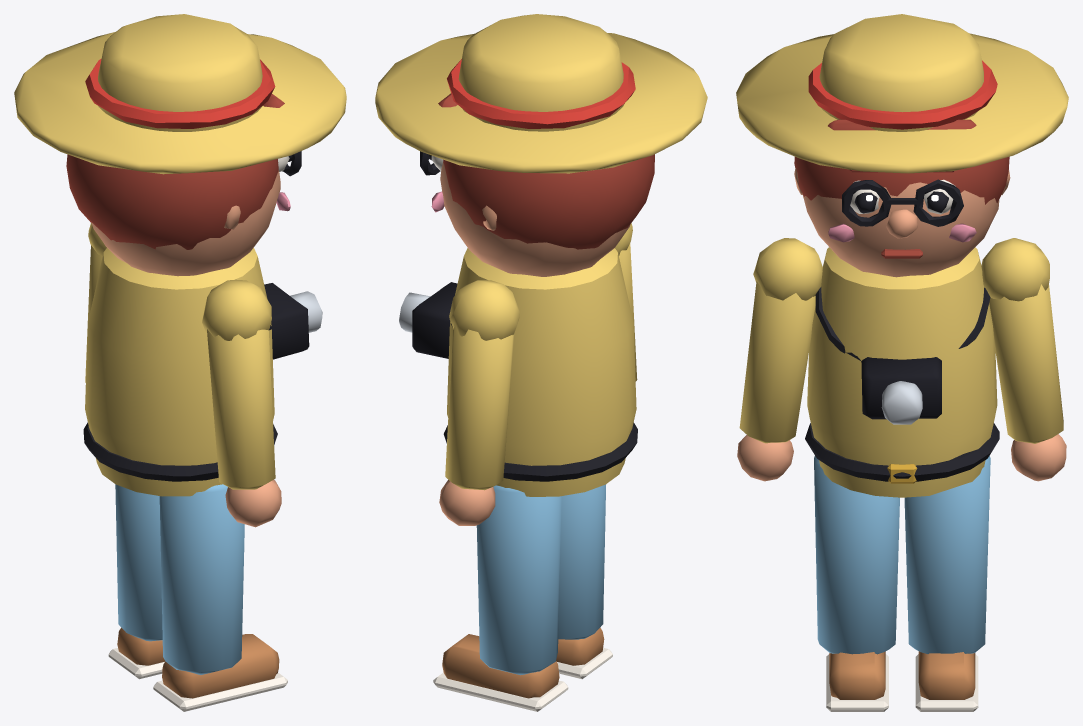
File: ped_tourist.glb
3 renders of one model, left to right at view 1: azimuth 30°, elevation 25°; view 2: azimuth 150°, elevation 25°; view 3: azimuth 270°, elevation 25°, orthographic.
Parts seen in each view (by area): view 1: ped_tourist; view 2: ped_tourist; view 3: ped_tourist.
Boxes of the visible parts, x1=… form: ped_tourist: x1=14, y1=14, x2=346, y2=711; ped_tourist: x1=375, y1=14, x2=707, y2=711; ped_tourist: x1=736, y1=14, x2=1068, y2=711.
Bounding box in the file's own units: 0.6813 × 1.44 × 0.6808.
1 material, 1 textured.
